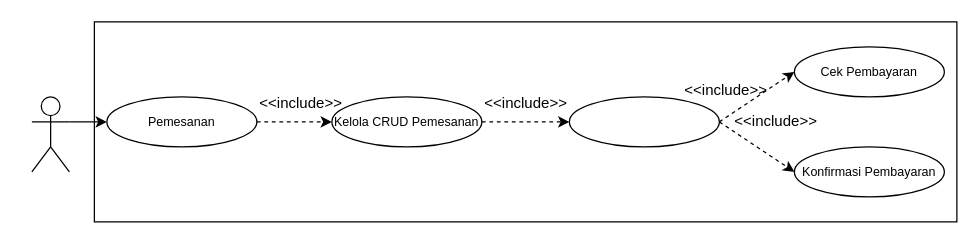
This 979x244 diagram has some shape labels left out. Here are the shapes that lost their labels. From the top down, the centre of each, then its label:
(50,134): Pegawai
(643,121): Pembayaran
